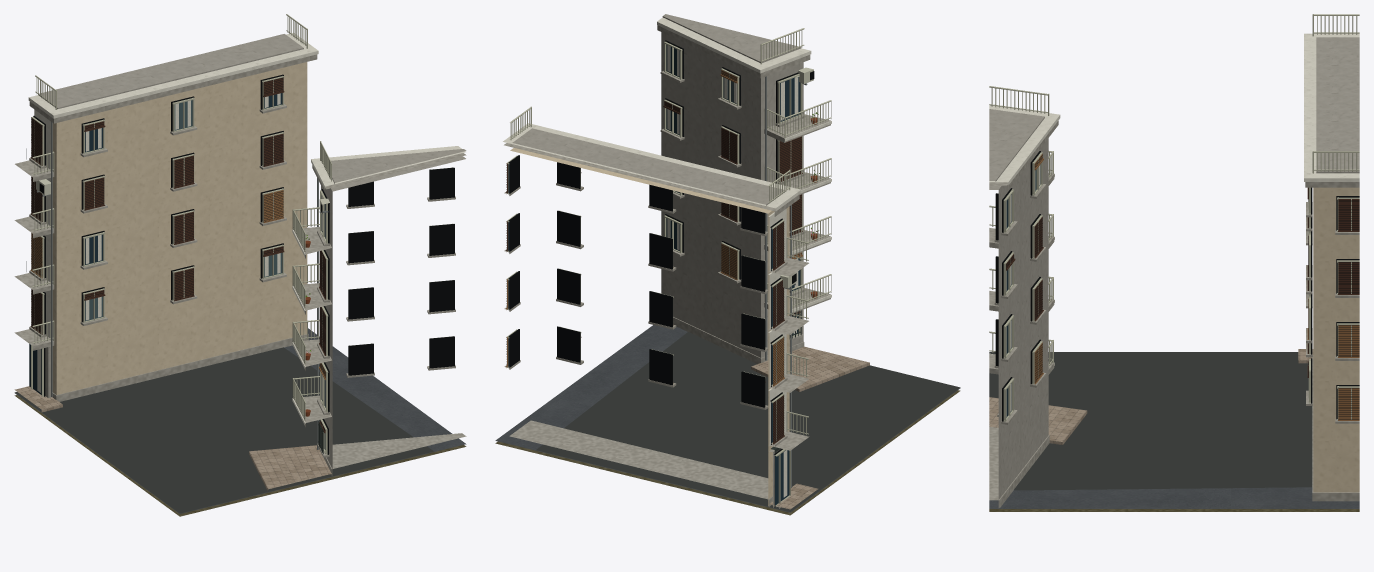
3 renders of one model, left to right at view 1: azimuth 30°, elevation 25°; view 2: azimuth 150°, elevation 25°; view 3: azimuth 270°, elevation 25°, orthographic. The views are drawn at different scales.
Bounding box in the file's own units: 16 × 19.01 × 16.
Materials: 20 (8 with a texture image).
